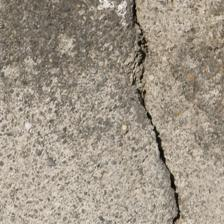Crack: (64, 6, 123, 215)
